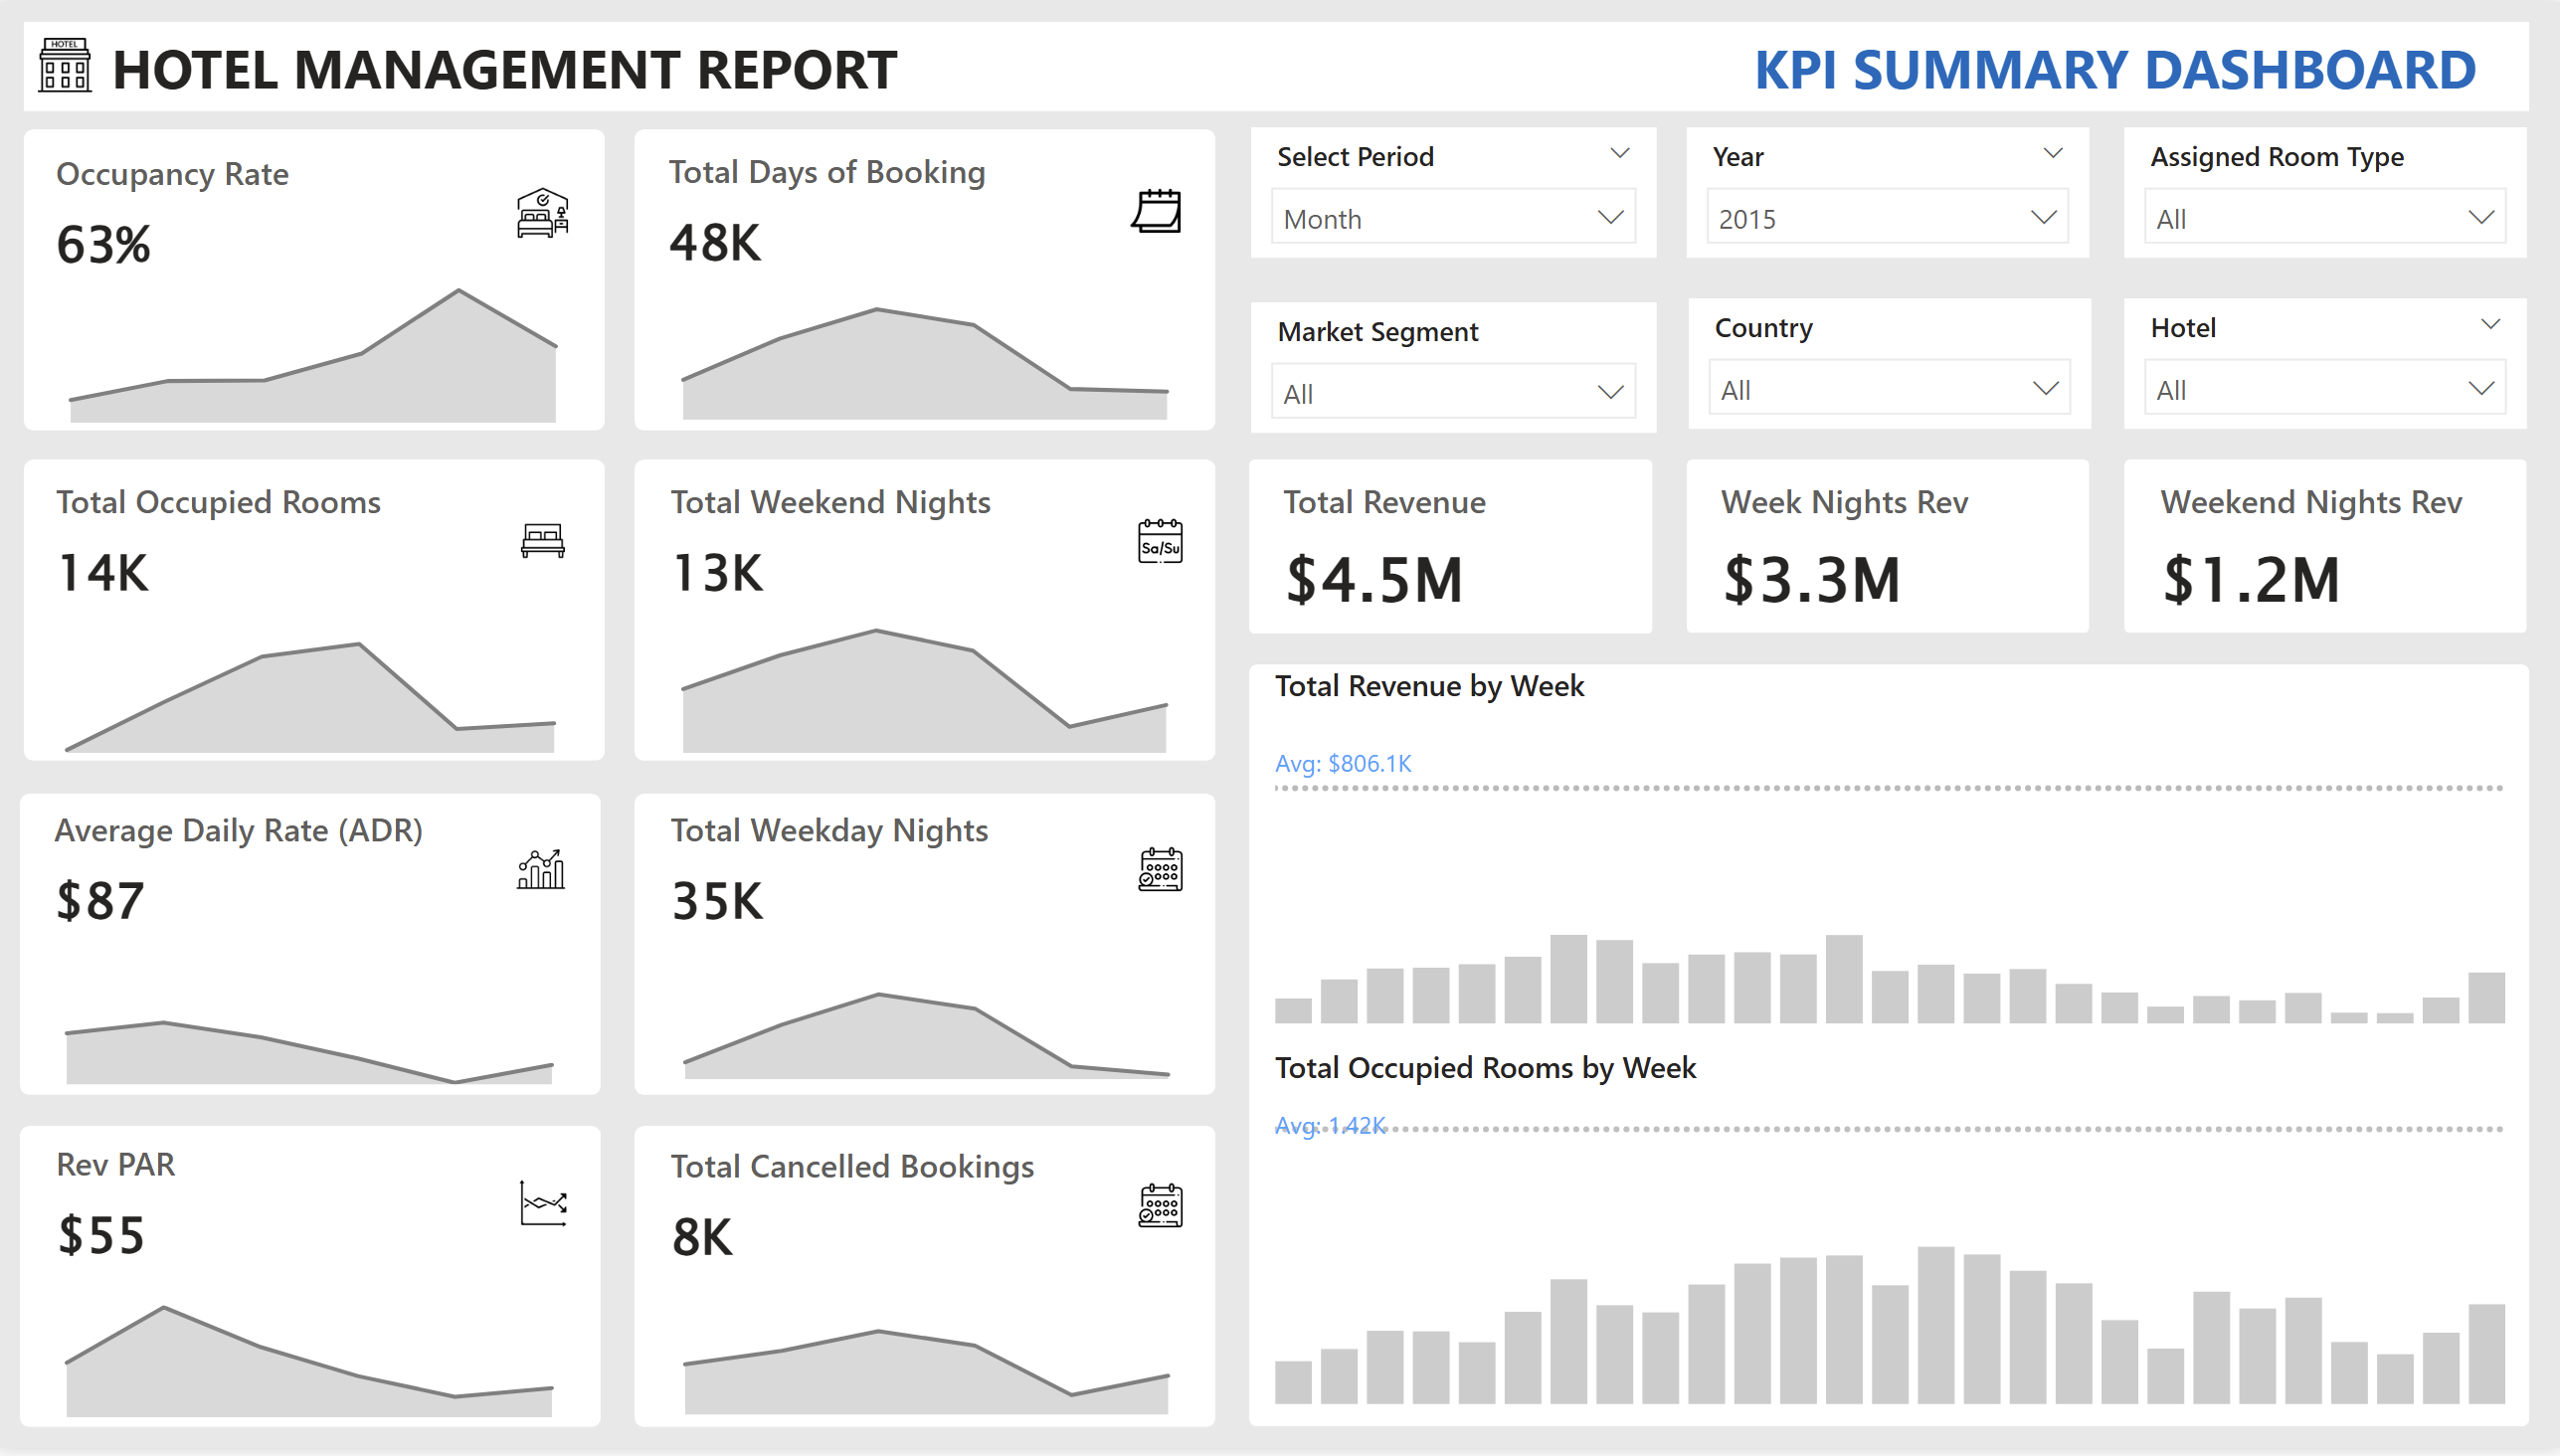

The page's visual inventory and layout, read from the dashboard file:
{"tool":"powerbi","page":{"name":"KPI SUMMARY DASHBOARD","canvas":[1280,720],"ordinal":0},"visuals":[{"type":"cardVisual","fields":{"Data":["hotel data.Total Occupied Rooms"]},"box":[13.2,219.7,289.4,85.3],"z":0,"group":"g4"},{"type":"cardVisual","fields":{"Data":["hotel data.Total Weekend Nights"]},"box":[319.4,219.7,289.4,84.1],"z":0,"group":"g6"},{"type":"cardVisual","fields":{"Data":["hotel data.Total Weekday Nights"]},"box":[320.1,383.3,289.4,85.3],"z":0,"group":"g5"},{"type":"shape","box":[319.4,559.5,289.4,150.1],"z":0},{"type":"cardVisual","fields":{"Data":["hotel data.Occupancy Rate"]},"box":[14.6,56,289.7,85.8],"z":500,"group":"g1"},{"type":"shape","box":[14.4,63.6,289.4,150.1],"z":1000},{"type":"areaChart","fields":{"Category":["Date Table.Month"],"Y":["hotel data.Total Occupied Rooms"]},"box":[11.7,296.9,291.5,81.9],"z":1000,"group":"g4"},{"type":"areaChart","fields":{"Category":["Date Table.Month"],"Y":["Sum(hotel data.Stays In Weekend Nights)"]},"box":[318.9,296.9,289,81.9],"z":1000,"group":"g6"},{"type":"areaChart","fields":{"Category":["Date Table.Month"],"Y":["hotel data.Total Weekday Nights"]},"box":[320.1,460.1,289,81.9],"z":1000,"group":"g5"},{"type":"areaChart","fields":{"Category":["Date Table.Month"],"Y":["hotel data.Occupancy Rate"]},"box":[14.3,127.6,290.3,86.8],"z":2000,"group":"g1"},{"type":"cardVisual","fields":{"Data":["hotel data.Occupancy Rate"]},"box":[851.1,317.1,289.7,85.8],"z":2000},{"type":"cardVisual","fields":{"Data":["hotel data.Total Cancelled Bookings"]},"box":[320,550.4,289.3,85.8],"z":3000},{"type":"areaChart","fields":{"Category":["Date Table.Month"],"Y":["hotel data.Total Cancelled Bookings"]},"box":[320.1,630.2,289,79.4],"z":4000},{"type":"slicer","fields":{"Values":["Date Table.Year"]},"box":[842.6,62.7,200.6,65.2],"z":5000},{"type":"slicer","fields":{"Values":["Select Period.Select Period"]},"box":[625.7,62.7,201.9,65.2],"z":6000},{"type":"cardVisual","fields":{"Data":["hotel data.Average Daily Rate (ADR)"]},"box":[13.2,383,289.4,85.3],"z":6000,"group":"g2"},{"type":"shape","box":[14.4,228.1,289.4,150.1],"z":7000},{"type":"areaChart","fields":{"Category":["Date Table.Month"],"Y":["hotel data.Average Daily Rate (ADR)"]},"box":[12.1,458.6,290.3,85.6],"z":7000,"group":"g2"},{"type":"shape","box":[13.2,393.8,289.4,150.1],"z":8000},{"type":"shape","box":[319.4,63.6,289.4,150.1],"z":9000},{"type":"shape","box":[319.4,228.1,289.4,150.1],"z":10000},{"type":"group","id":"g1","title":"Group 2","box":[14.3,56,289.7,158.5],"z":11000},{"type":"shape","box":[625.2,228.3,201,86.8],"z":12000},{"type":"cardVisual","fields":{"Data":["hotel data.Rev PAR"]},"box":[13.2,549.9,289.4,85.3],"z":12000,"group":"g3"},{"type":"group","id":"g2","title":"Group 1","box":[12.1,383,290.5,161.2],"z":13000},{"type":"areaChart","fields":{"Category":["Date Table.Month"],"Y":["hotel data.Rev PAR"]},"box":[11.7,628.1,290.3,81.9],"z":13000,"group":"g3"},{"type":"shape","box":[13.2,559.5,289.4,150.1],"z":14000},{"type":"group","id":"g3","title":"Group 3","box":[11.7,549.9,290.9,160.1],"z":15000},{"type":"group","id":"g4","title":"Group 4","box":[11.7,219.7,291.5,159.1],"z":16000},{"type":"cardVisual","fields":{"Data":["hotel data.Total Booking Days"]},"box":[319.4,55.2,289.4,85.3],"z":17000,"group":"g7"},{"type":"shape","box":[842.9,228.1,200.5,86.5],"z":17000},{"type":"areaChart","fields":{"Category":["Date Table.Month"],"Y":["hotel data.Total Booking Days"]},"box":[319,131.7,289.5,81.4],"z":18000,"group":"g7"},{"type":"shape","box":[1061.5,228.1,200.5,86.5],"z":18000},{"type":"shape","box":[319.4,393.8,289.4,150.1],"z":19000},{"type":"group","id":"g5","title":"Group 5","box":[320.1,383.3,289,158.8],"z":20000},{"type":"group","id":"g6","title":"Group 6","box":[318.9,219.7,289.9,159.1],"z":21000},{"type":"group","id":"g7","title":"Group 7","box":[319,55.2,289.8,157.9],"z":22000},{"type":"cardVisual","fields":{"Data":["hotel data.Total Revenue"]},"box":[625.2,219.6,201,93],"z":23000},{"type":"cardVisual","fields":{"Data":["hotel data.Weekend Nights Rev"]},"box":[1061.6,219.8,201.2,93],"z":24000},{"type":"cardVisual","fields":{"Data":["hotel data.Week Nights Rev"]},"box":[843,219.8,201.2,93],"z":25000},{"type":"shape","box":[625.2,330,637.6,379.6],"z":26000},{"type":"shape","box":[14.5,10,1248,44.7],"z":27000},{"type":"columnChart","fields":{"Y":["hotel data.Total Occupied Rooms"],"Category":["Date Table.Week"]},"box":[632.9,520.2,622.9,184.2],"z":28000},{"type":"columnChart","fields":{"Y":["hotel data.Total Revenue"],"Category":["Date Table.Week"]},"box":[632.7,330,622.8,184.8],"z":29000},{"type":"textbox","box":[53.5,8.9,1202.7,46.6],"z":30000},{"type":"slicer","fields":{"Values":["hotel data.Assigned Room Type"]},"box":[1060.8,62.7,200.6,65.2],"z":31000},{"type":"slicer","fields":{"Values":["hotel data.Market Segment"]},"box":[625.7,149.2,201.9,65.2],"z":32000},{"type":"slicer","fields":{"Values":["hotel data.Country"]},"box":[843.9,148,200.6,65.2],"z":33000},{"type":"slicer","fields":{"Values":["hotel data.Hotel"]},"box":[1060.8,148,200.6,65.2],"z":34000},{"type":"image","box":[16.7,12.3,36.8,39.1],"z":35000}]}

Visuals, with their boxes in screenshot pixels (x1, y1, x2, y2), scaled from the page's 1280x720 canvas onto the 2560x1456 screenshot:
cardVisual - hotel data.Total Occupied Rooms: [27, 445, 606, 617]
cardVisual - hotel data.Total Weekend Nights: [639, 445, 1217, 615]
cardVisual - hotel data.Total Weekday Nights: [640, 775, 1219, 948]
shape: [639, 1132, 1217, 1435]
cardVisual - hotel data.Occupancy Rate: [29, 113, 609, 286]
shape: [29, 128, 608, 433]
areaChart - Date Table.Month x hotel data.Total Occupied Rooms: [24, 601, 607, 766]
areaChart - Date Table.Month x Sum(hotel data.Stays In Weekend Nights): [638, 601, 1215, 766]
areaChart - Date Table.Month x hotel data.Total Weekday Nights: [640, 931, 1218, 1096]
areaChart - Date Table.Month x hotel data.Occupancy Rate: [29, 258, 610, 434]
cardVisual - hotel data.Occupancy Rate: [1703, 641, 2282, 815]
cardVisual - hotel data.Total Cancelled Bookings: [640, 1113, 1218, 1287]
areaChart - Date Table.Month x hotel data.Total Cancelled Bookings: [640, 1274, 1218, 1435]
slicer - Date Table.Year: [1685, 126, 2087, 259]
slicer - Select Period.Select Period: [1251, 126, 1655, 259]
cardVisual - hotel data.Average Daily Rate (ADR): [27, 775, 606, 947]
shape: [29, 461, 608, 765]
areaChart - Date Table.Month x hotel data.Average Daily Rate (ADR): [24, 927, 605, 1101]
shape: [27, 797, 606, 1100]
shape: [639, 128, 1217, 433]
shape: [639, 461, 1217, 765]
"Group 2" group: [29, 113, 608, 434]
shape: [1250, 461, 1652, 637]
cardVisual - hotel data.Rev PAR: [27, 1112, 606, 1285]
"Group 1" group: [24, 775, 606, 1101]
areaChart - Date Table.Month x hotel data.Rev PAR: [24, 1270, 604, 1436]
shape: [27, 1132, 606, 1435]
"Group 3" group: [24, 1112, 606, 1436]
"Group 4" group: [24, 445, 607, 766]
cardVisual - hotel data.Total Booking Days: [639, 111, 1217, 284]
shape: [1686, 461, 2087, 637]
areaChart - Date Table.Month x hotel data.Total Booking Days: [638, 267, 1217, 431]
shape: [2123, 461, 2524, 637]
shape: [639, 797, 1217, 1100]
"Group 5" group: [640, 775, 1218, 1096]
"Group 6" group: [638, 445, 1217, 766]
"Group 7" group: [638, 111, 1217, 431]
cardVisual - hotel data.Total Revenue: [1250, 445, 1652, 633]
cardVisual - hotel data.Weekend Nights Rev: [2123, 445, 2525, 633]
cardVisual - hotel data.Week Nights Rev: [1686, 445, 2089, 633]
shape: [1250, 667, 2525, 1435]
shape: [29, 20, 2525, 110]
columnChart - hotel data.Total Occupied Rooms x Date Table.Week: [1266, 1052, 2511, 1424]
columnChart - hotel data.Total Revenue x Date Table.Week: [1265, 667, 2511, 1041]
textbox: [107, 18, 2512, 112]
slicer - hotel data.Assigned Room Type: [2121, 126, 2523, 259]
slicer - hotel data.Market Segment: [1251, 301, 1655, 434]
slicer - hotel data.Country: [1688, 299, 2089, 432]
slicer - hotel data.Hotel: [2121, 299, 2523, 432]
image: [34, 25, 107, 104]
